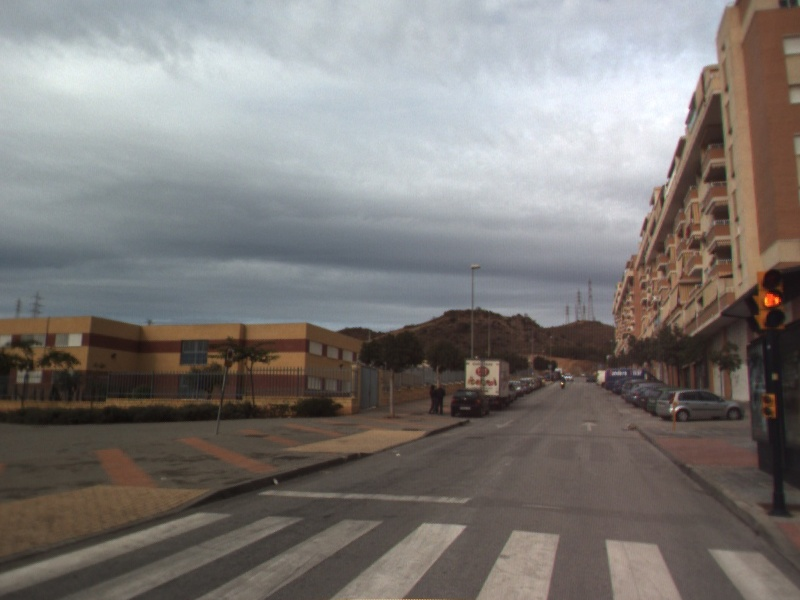STRAIGHT: (580, 419, 600, 433)
